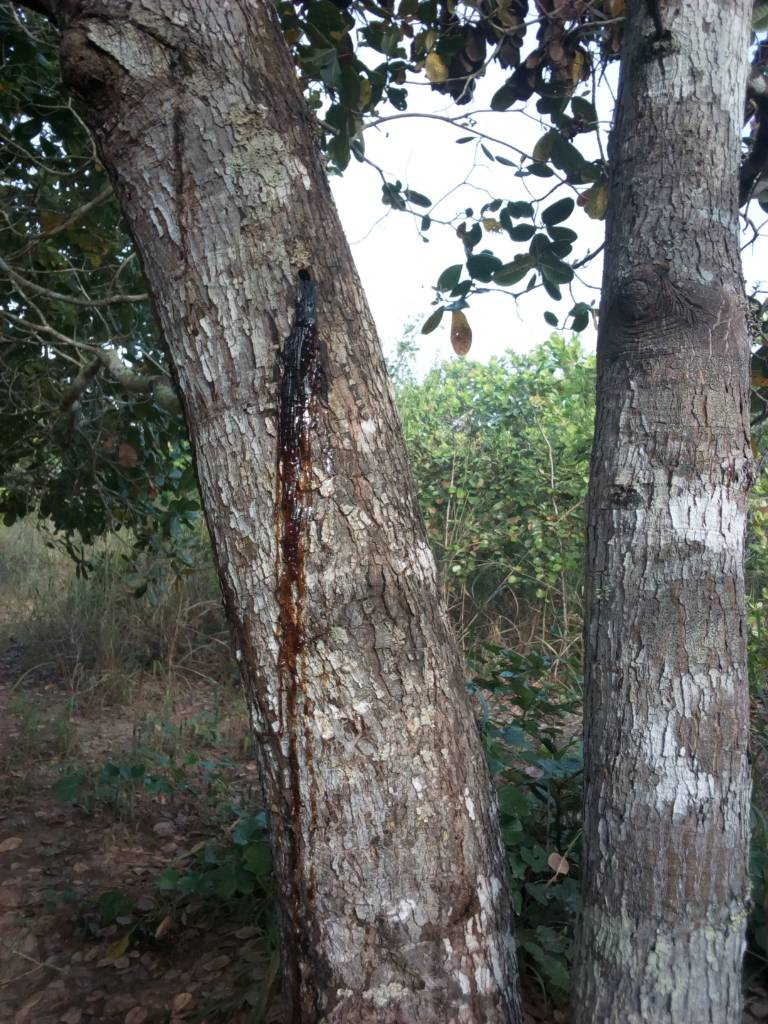Apate terebrans: (275, 235, 357, 369)
